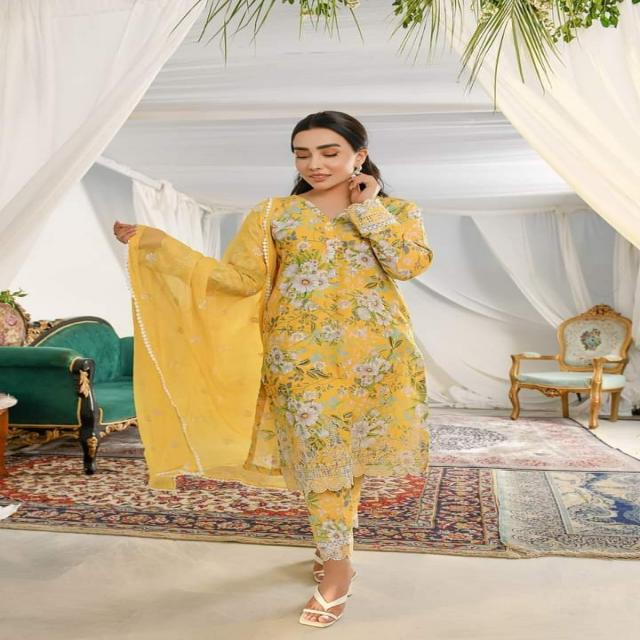female-dress: (166, 183, 452, 522)
